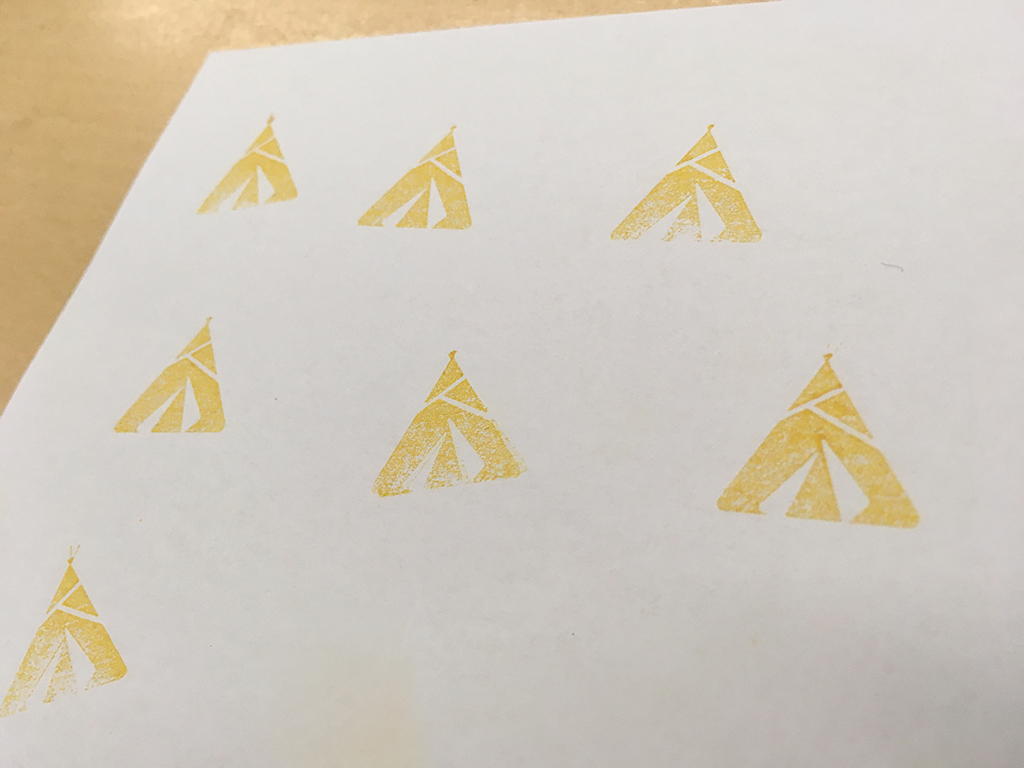tent: (707, 340, 932, 540), (365, 336, 537, 505), (1, 533, 140, 730), (602, 114, 770, 253), (110, 311, 238, 441), (353, 116, 483, 242), (189, 95, 305, 232)
